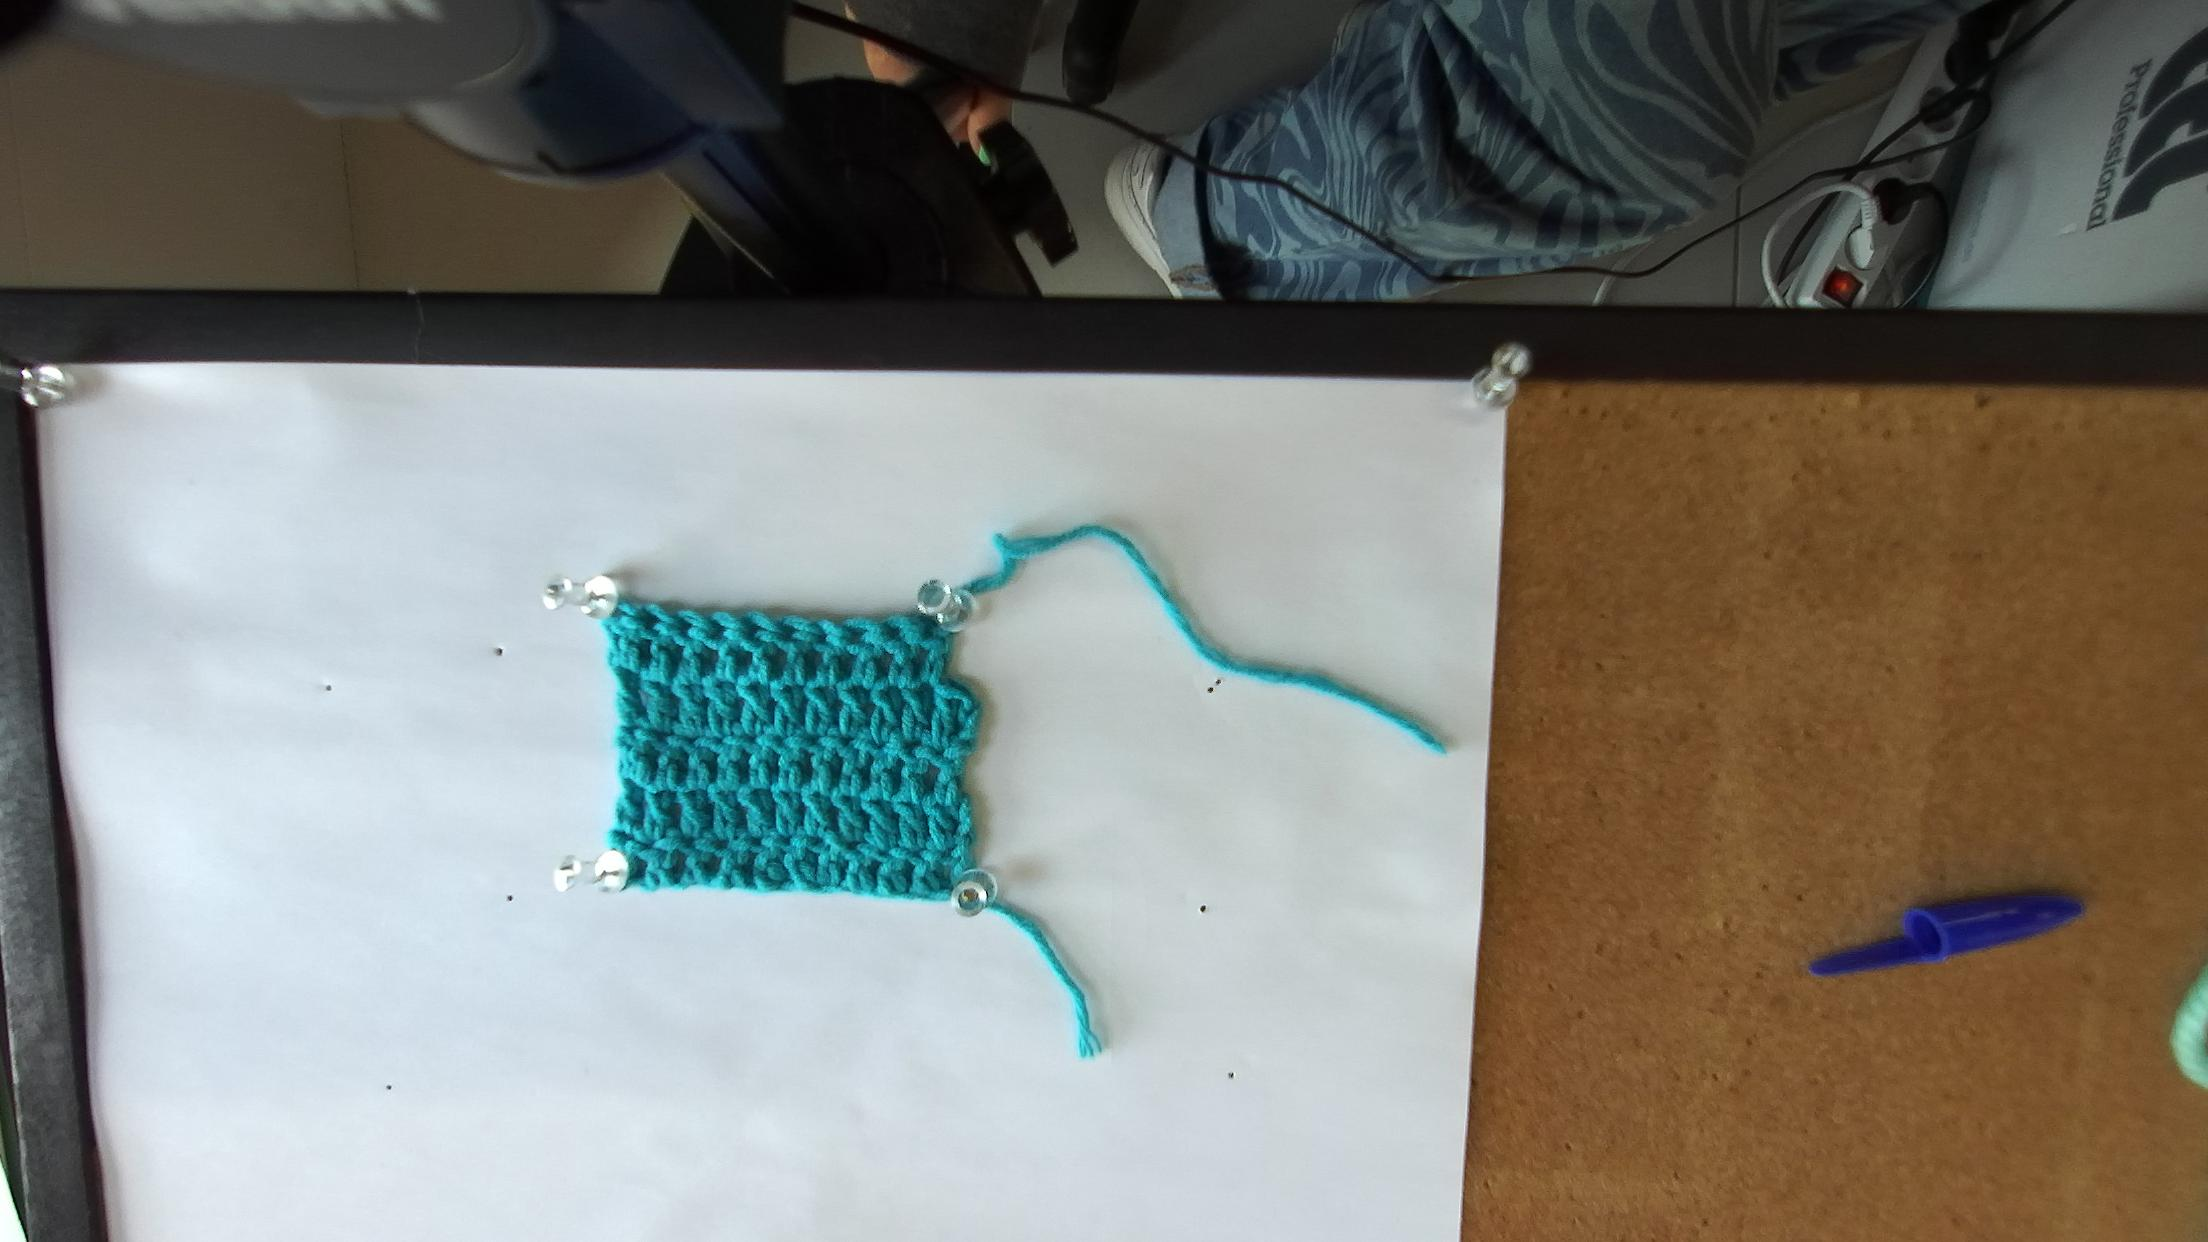hole: (638, 610, 663, 629), (743, 620, 766, 640), (846, 628, 867, 645), (676, 619, 695, 637), (779, 625, 799, 641), (710, 622, 726, 638), (886, 625, 902, 640), (921, 625, 934, 640), (817, 629, 828, 643)
swatch: (601, 602, 984, 908)
